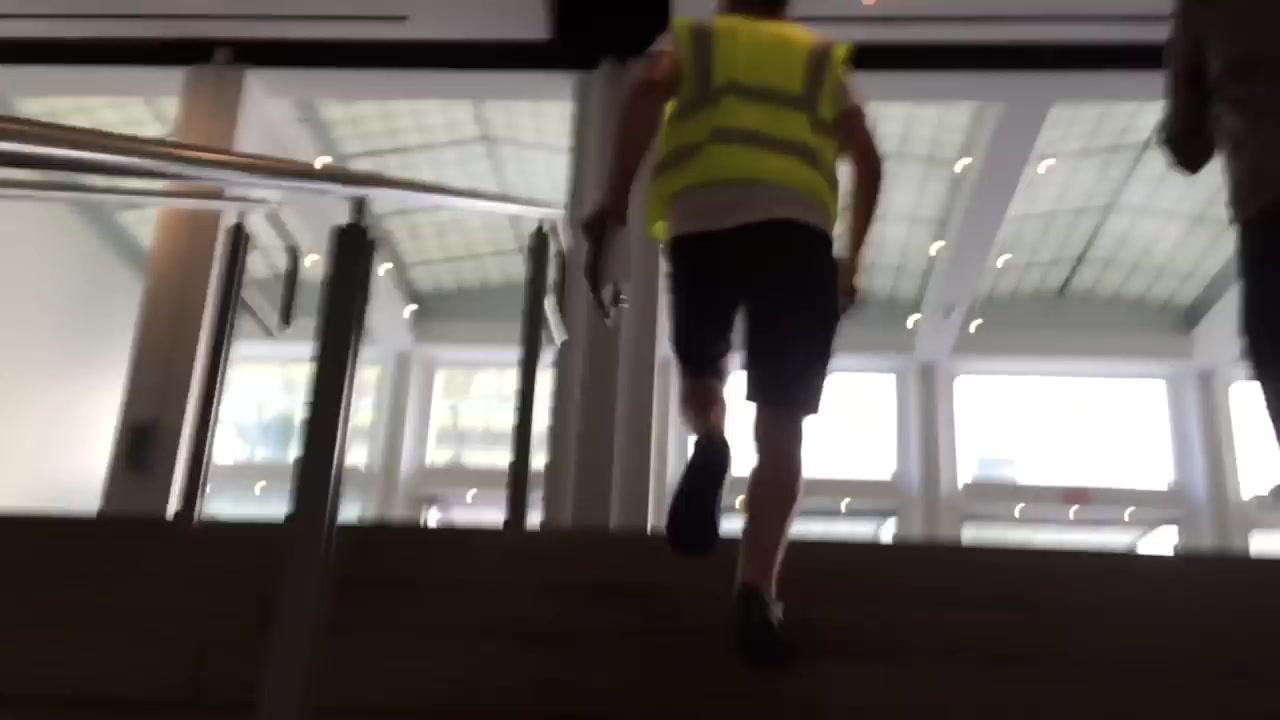vest: (641, 16, 855, 238)
